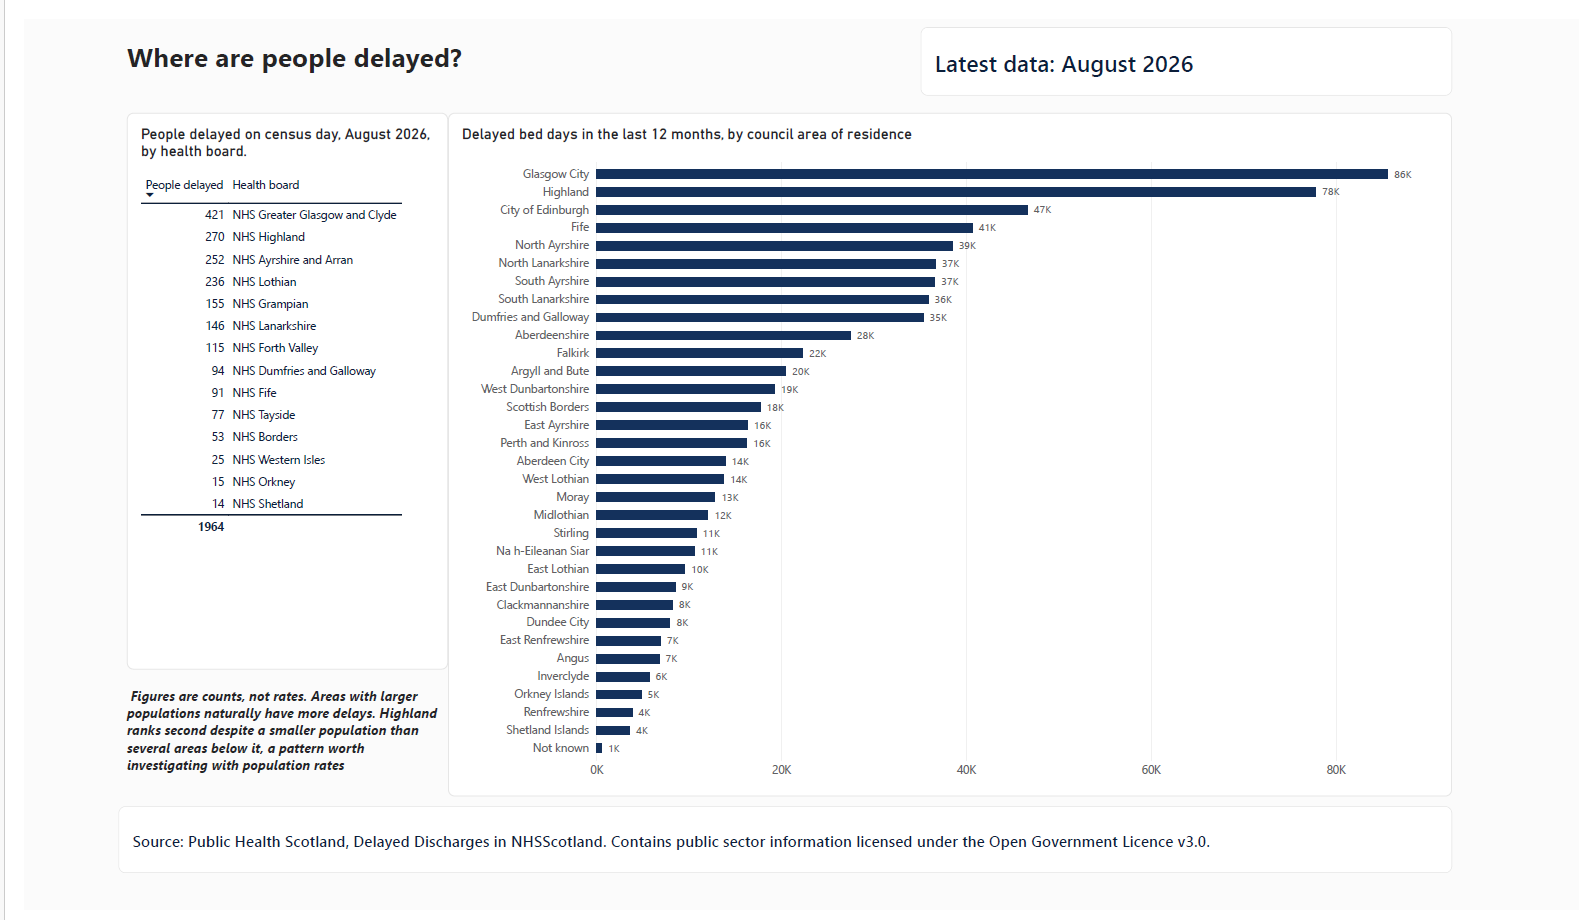

Layout of this report page (visuals, bound fields, positions):
{"tool":"powerbi","page":{"name":"Where are people delayed?","canvas":[1920,1080],"ordinal":1},"visuals":[{"type":"textbox","box":[123.9,21.5,663.9,70],"z":0},{"type":"cardVisual","fields":{"Data":["_Measures.Latest Month Label"]},"box":[1088.1,9.4,645,82.1],"z":1000},{"type":"cardVisual","fields":{"Data":["_Measures.Source Note"]},"box":[114.5,954.8,1618.7,80.8],"z":2000},{"type":"clusteredBarChart","title":"Delayed bed days in the last 12 months, by council area of residence","fields":{"Category":["dim_council_area.CouncilArea"],"Y":["_Measures.Bed Days Rolling 12 Months"]},"box":[514.4,113.1,1218.7,829.5],"z":3000},{"type":"tableEx","title":"People delayed on census day, August 2026, by health board.","fields":{"Values":["_Measures.Census Delays (Latest Month)","dim_health_board.HealthBoard"]},"box":[123.9,113.1,390.5,676],"z":4000},{"type":"textbox","box":[124,789,390,154],"z":5000}]}

Visuals, with their boxes on the page's 1920x1080 design canvas (x1, y1, x2, y2). These are canvas units, not pixel positions in the 1579x920 screenshot, which may show the page scaled, cropped or inside an application window:
textbox: [124, 22, 788, 92]
cardVisual - _Measures.Latest Month Label: [1088, 9, 1733, 92]
cardVisual - _Measures.Source Note: [114, 955, 1733, 1036]
"Delayed bed days in the last 12 months, by council area of residence" clusteredBarChart: [514, 113, 1733, 943]
"People delayed on census day, August 2026, by health board." tableEx: [124, 113, 514, 789]
textbox: [124, 789, 514, 943]
